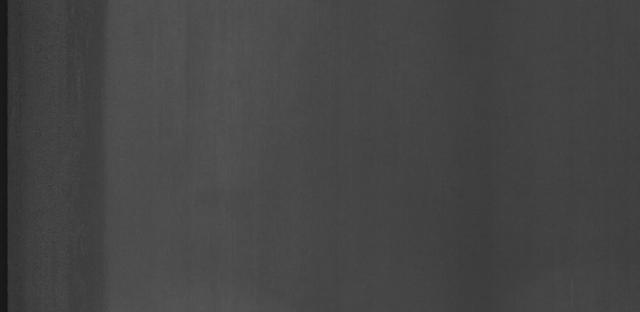silk_spot: (34, 45, 105, 249)
